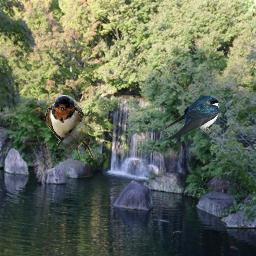Swallow: (45, 95, 95, 160), (157, 95, 221, 141)
